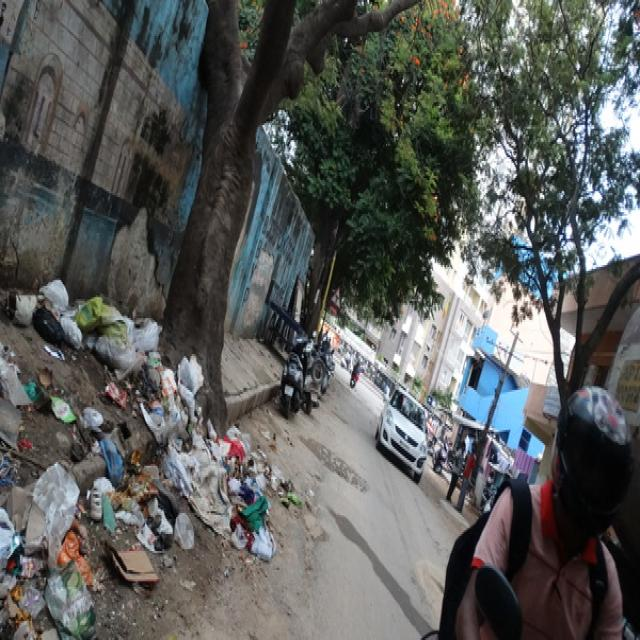garbage: (0, 249, 318, 640)
